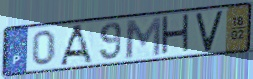0: (30, 28, 58, 68)
9: (98, 21, 124, 62)
A: (58, 23, 95, 66)
H: (159, 12, 192, 58)
M: (124, 15, 164, 60)
V: (194, 8, 225, 54)
